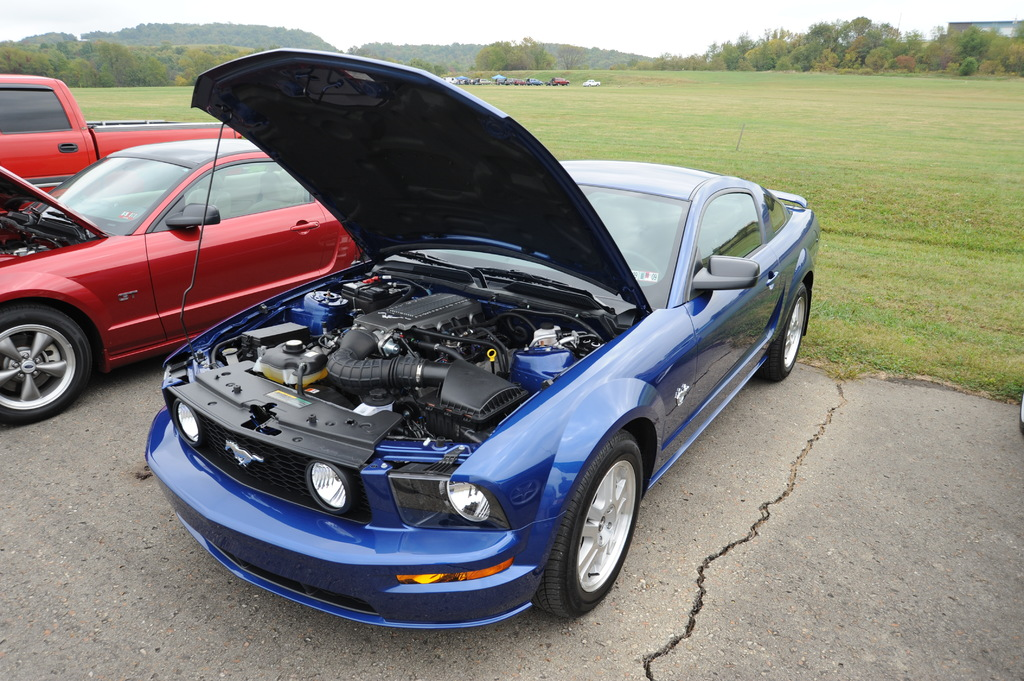Car: (142, 45, 819, 631), (0, 136, 359, 421), (446, 72, 599, 84)
